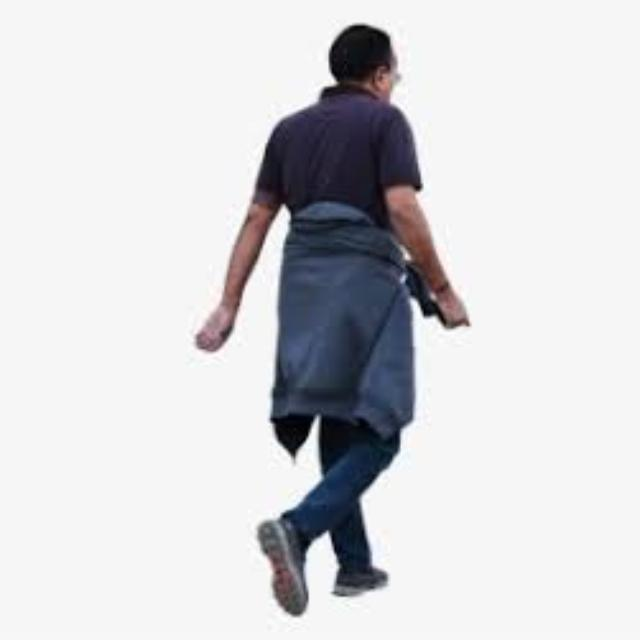person: (214, 3, 481, 614)
